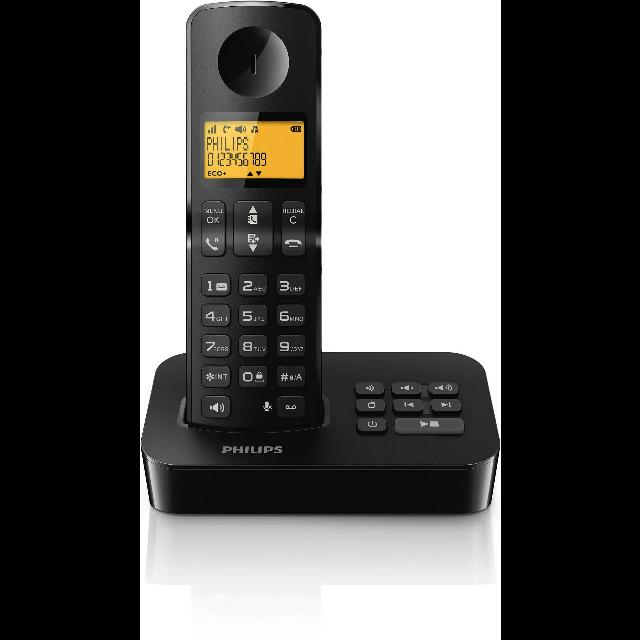Telephone-Set: (142, 9, 500, 528)
